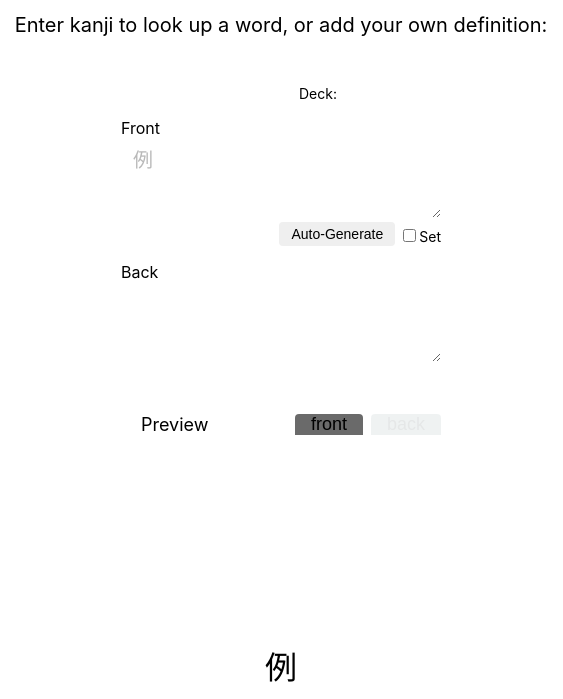
Test: CardCreate › should change 'Preview' to 'Save | Clear' when anything is typed into the input
Type "偉い" into the text box with placeholder "例" at (281, 180), box [121,142,441,218]
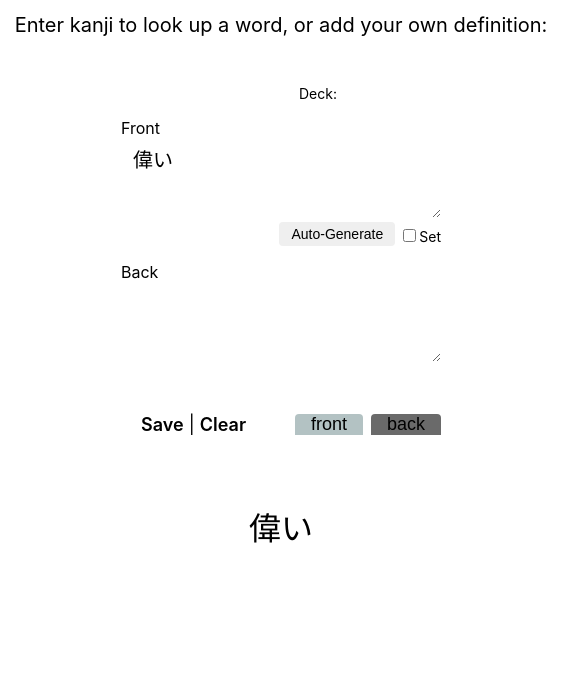
Result: the link "Save" is shown at [141,414,184,435]
